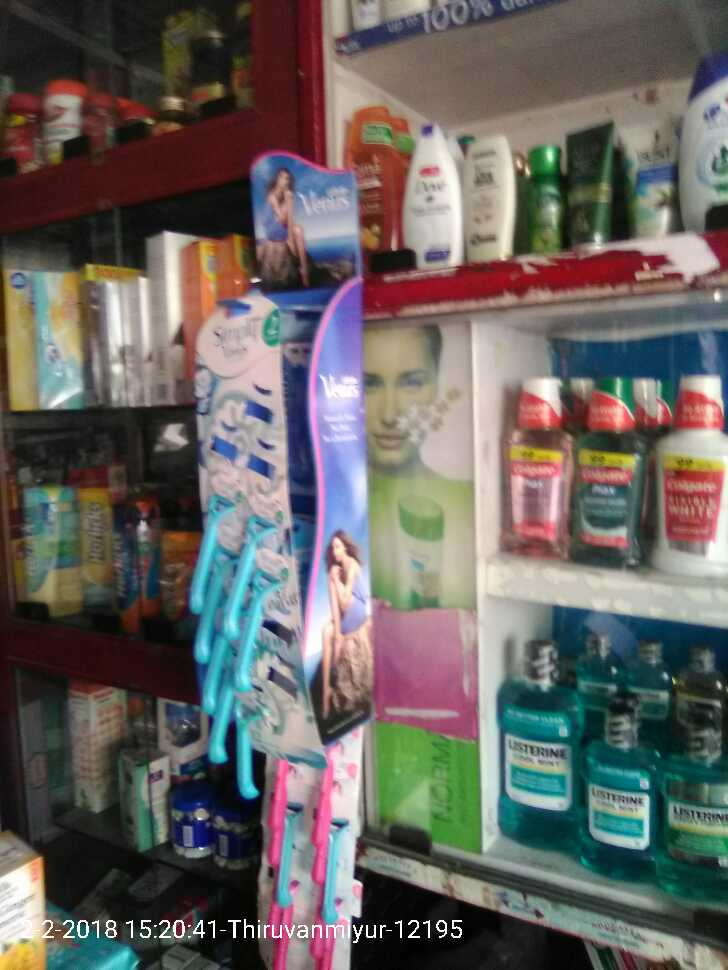reject: (345, 396, 447, 525)
